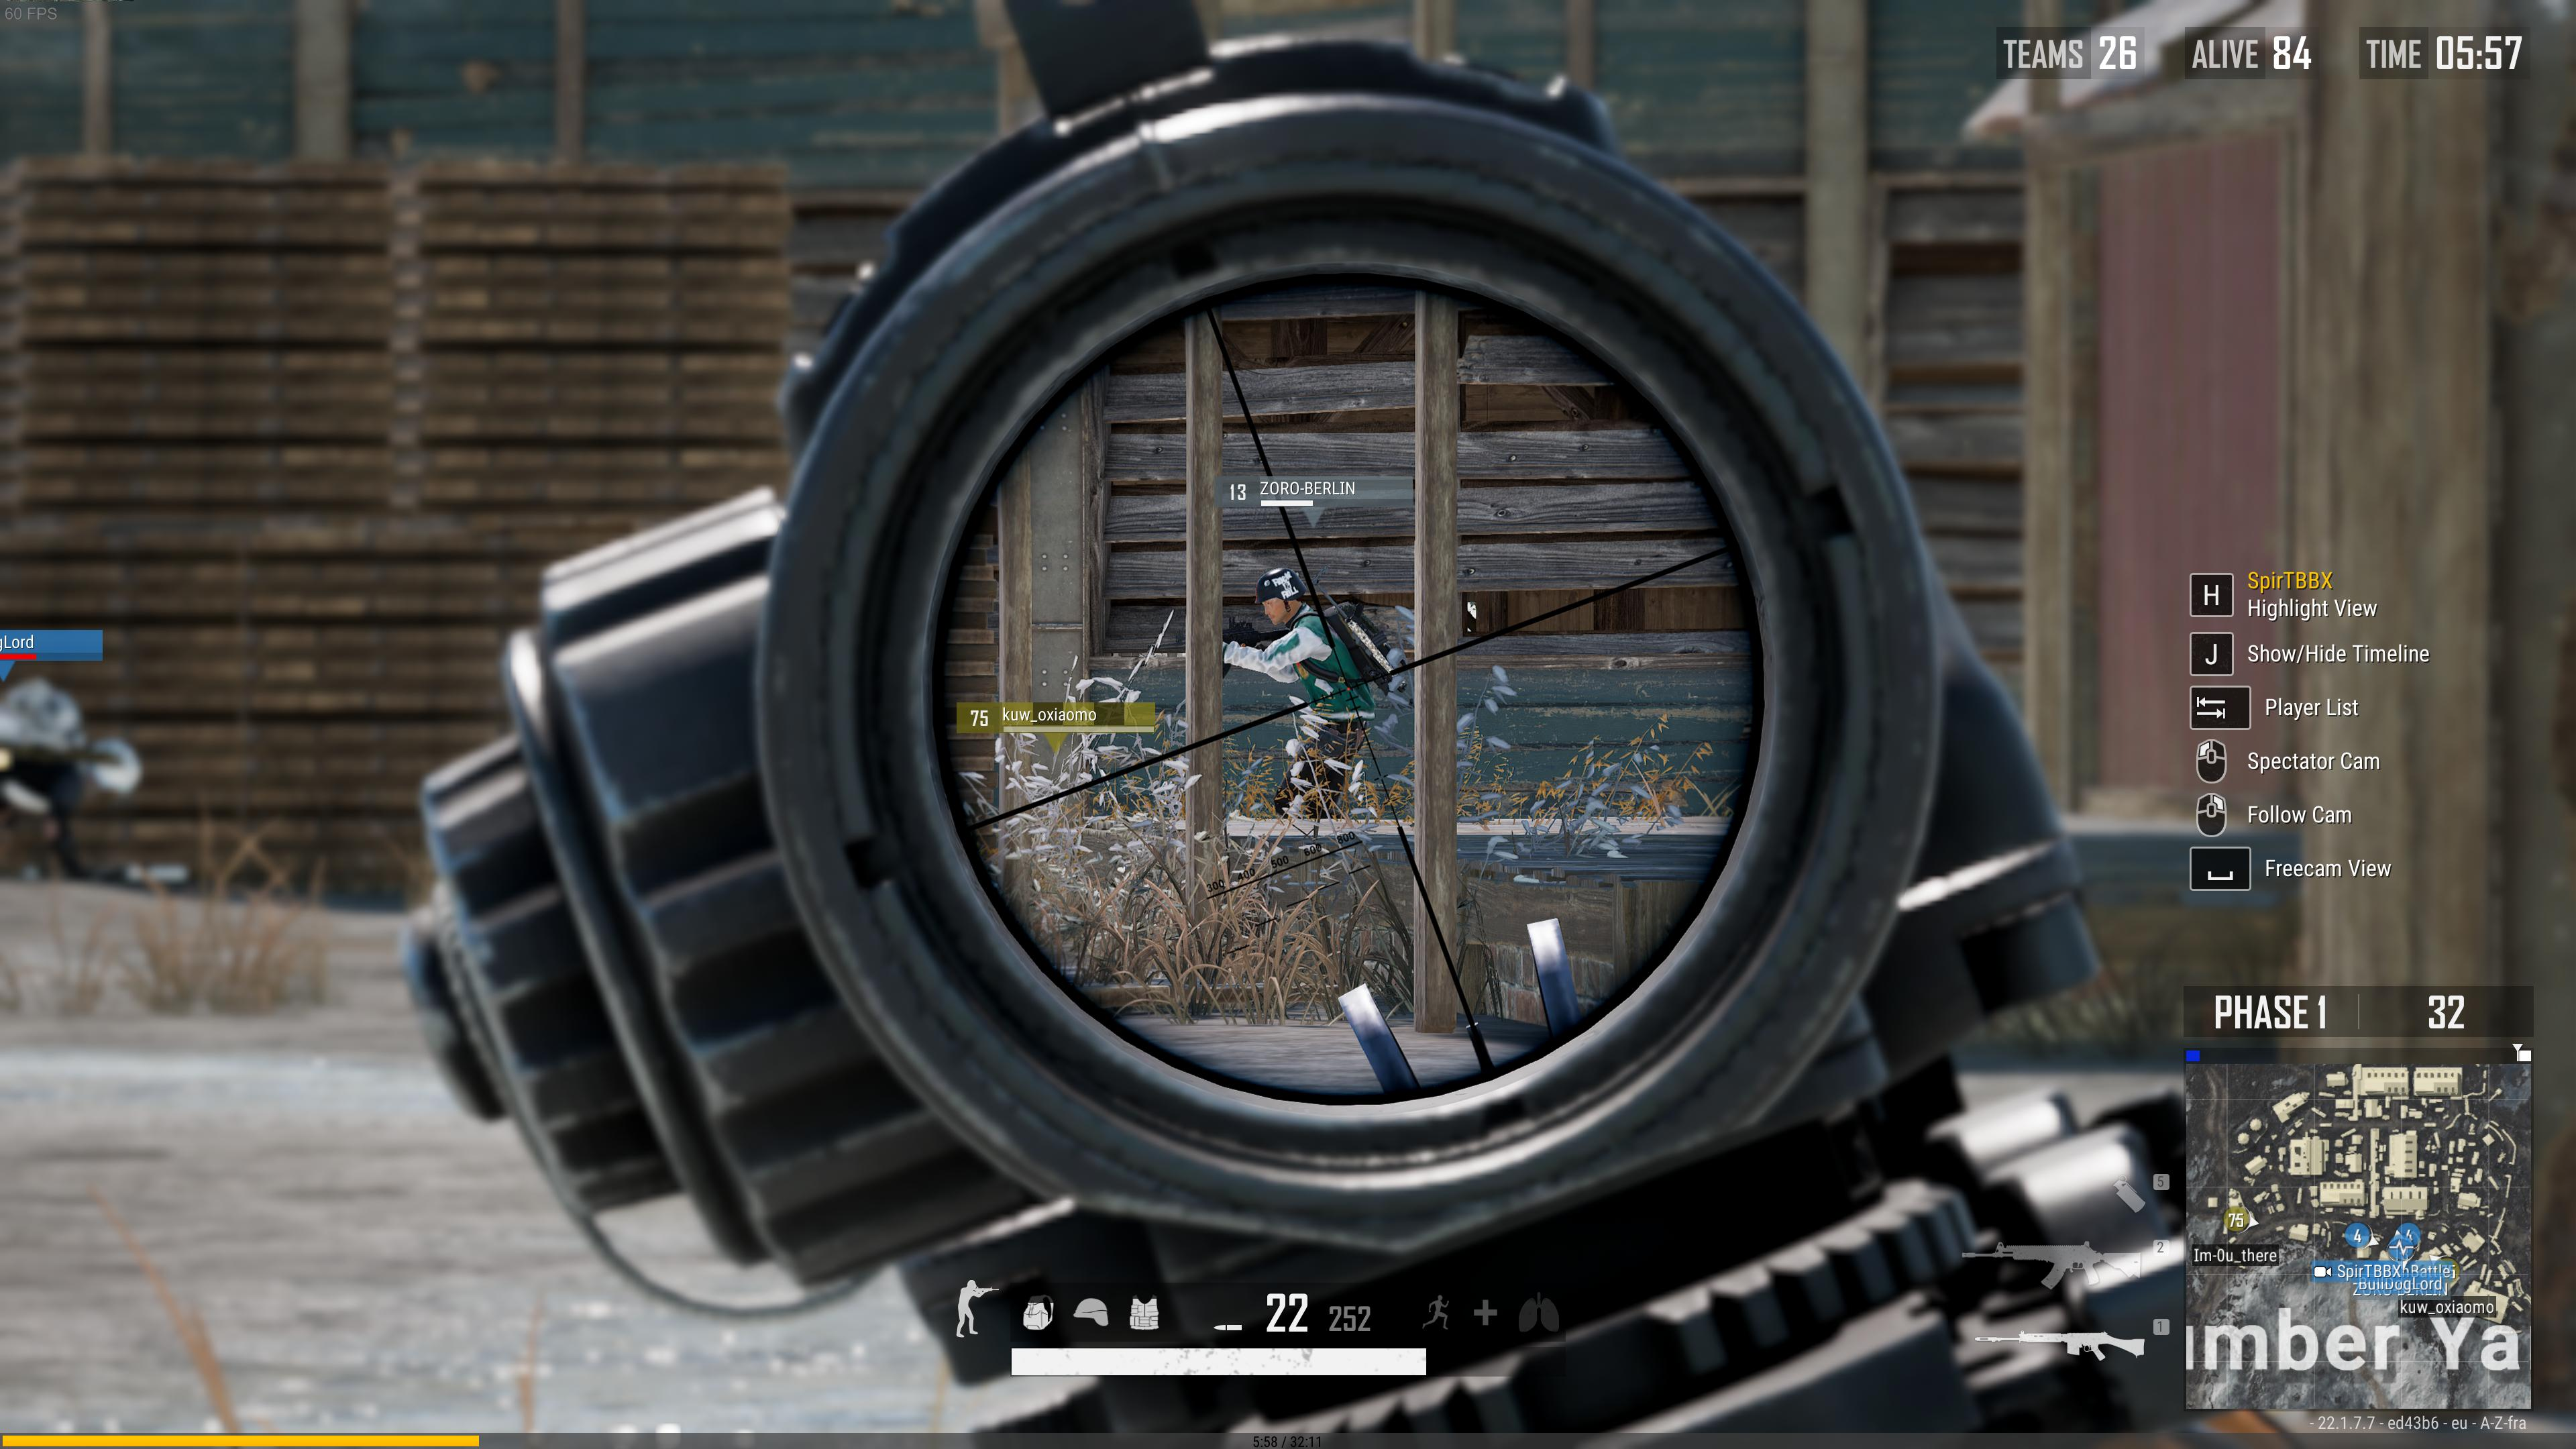enemy: (1221, 566, 1376, 817), (0, 681, 140, 883)
enemy_head: (1253, 566, 1306, 626)
